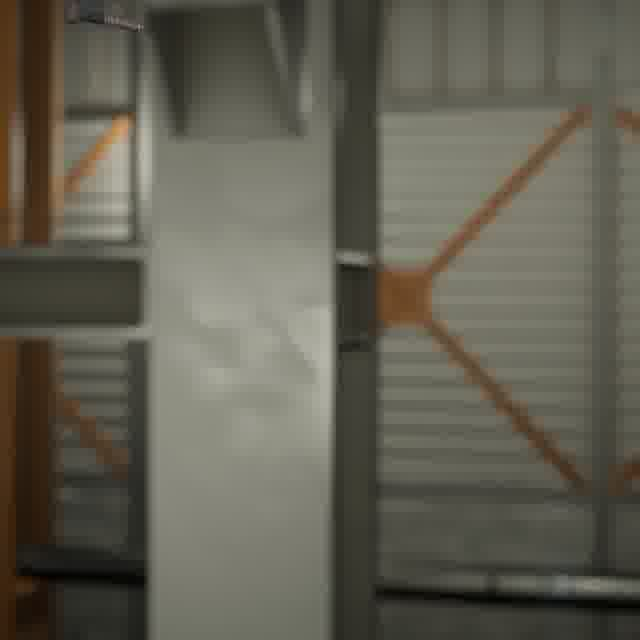bolt: (58, 0, 151, 36)
